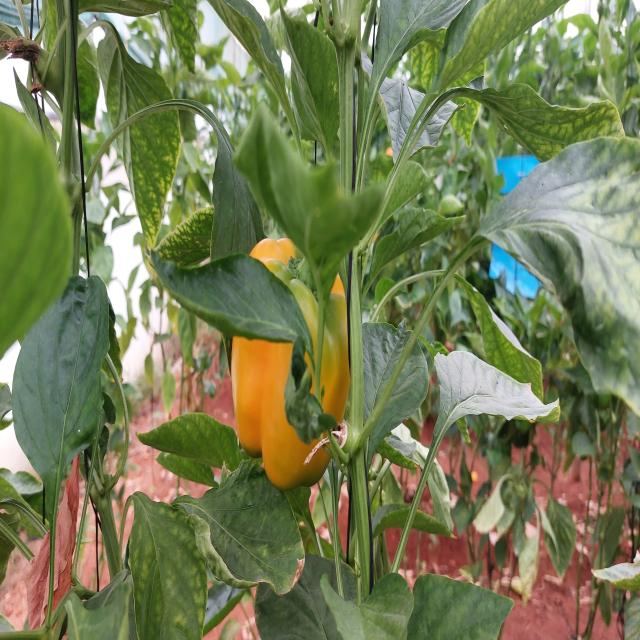Yellow-Ready-to-Harvest: (233, 331, 347, 489)
